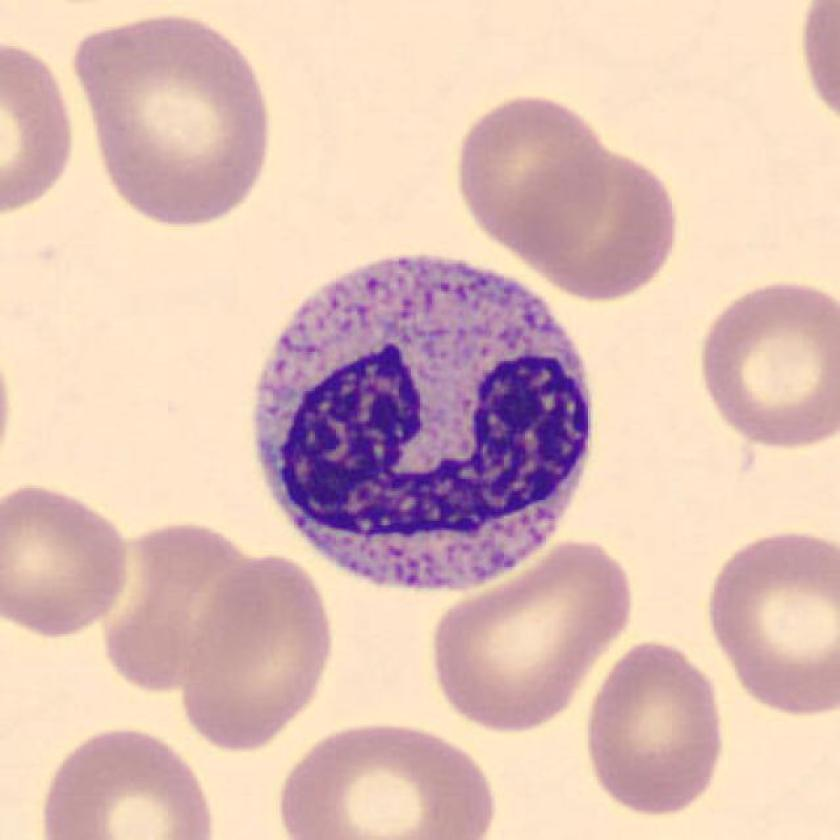neutrophil: (257, 256, 589, 597)
